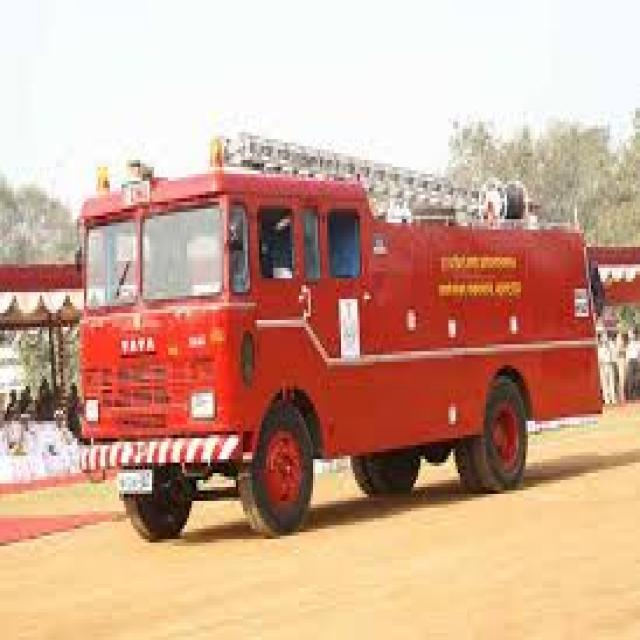Fire_brigade: (65, 122, 608, 542)
